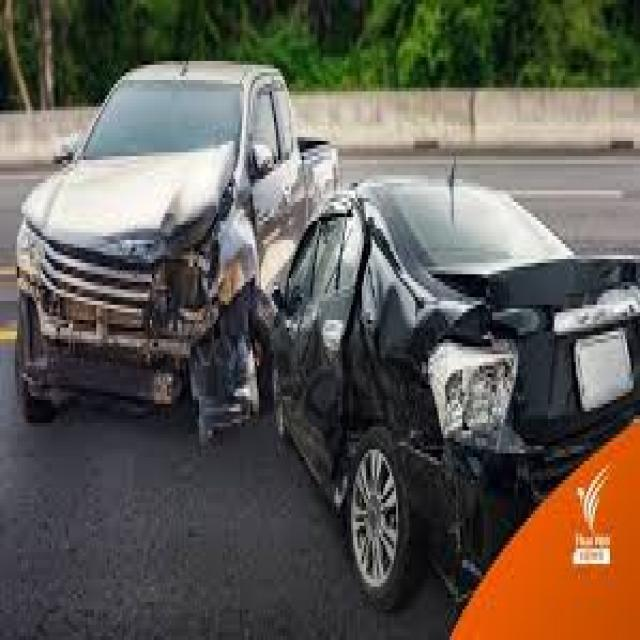accident: (21, 38, 602, 552)
